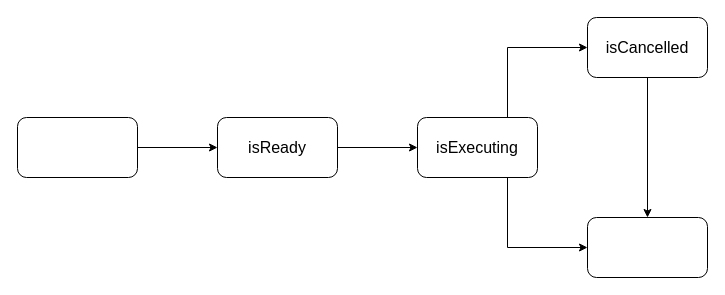
This 725x295 diagram has some shape labels left out. The shapes that lost their labels are listed below. From the top down, each one's centre as x and y in pixels, then its label:
the point at 77,147: Operation
the point at 647,247: isFinished
